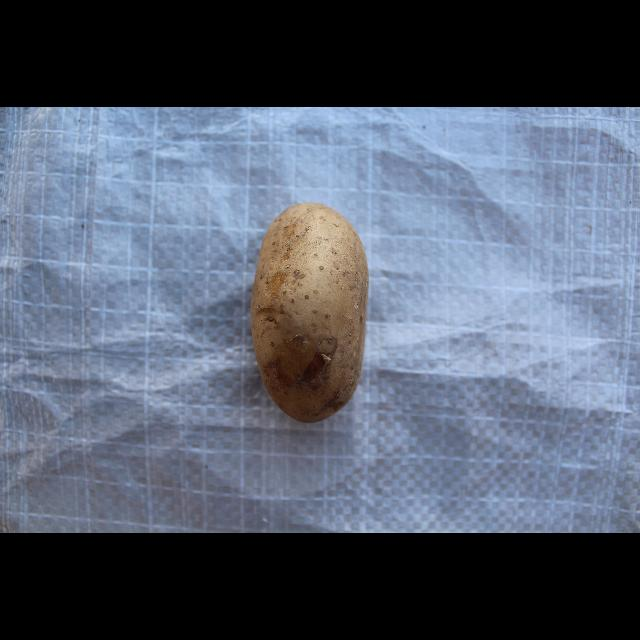Diseased-fungal potato: (246, 200, 376, 422)
